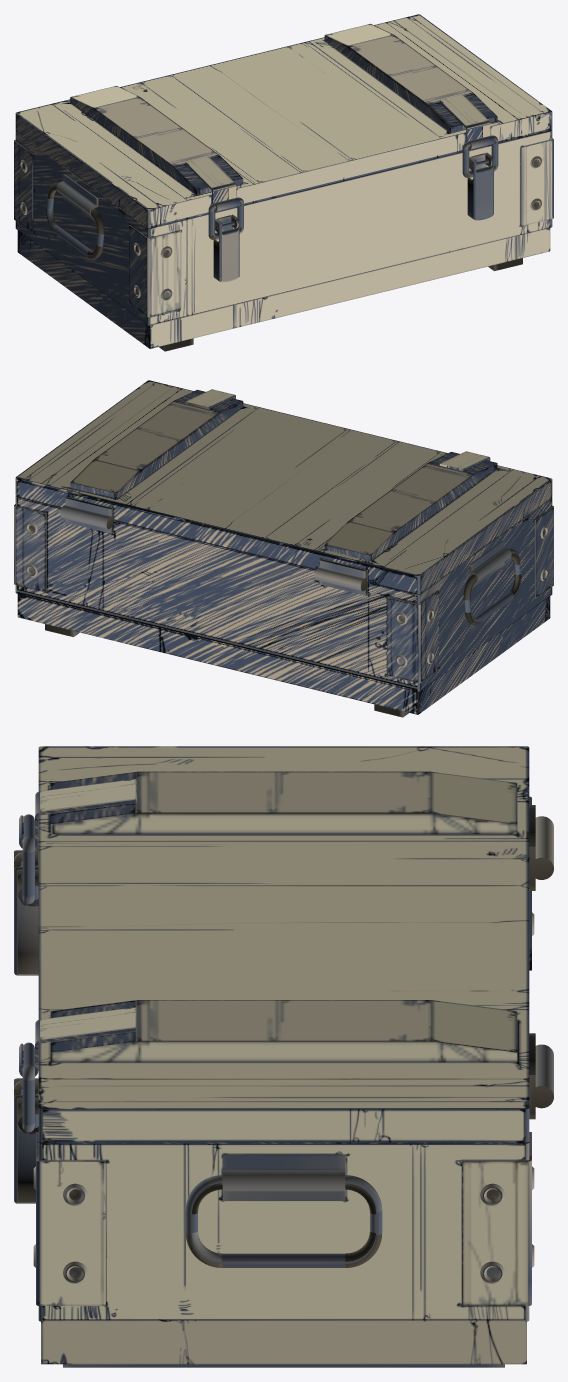
File: AmmoCase.obj
The picture shows the model from 3 angles, top to bottom: view 1: azimuth 30°, elevation 25°; view 2: azimuth 150°, elevation 25°; view 3: azimuth 270°, elevation 25°; orthographic projection. The views are drawn at different scales.
Visible parts, largest first — view 1: AmmoCase; view 2: AmmoCase; view 3: AmmoCase.
Boxes of the visible parts, x1,y1,x2,y2 form: AmmoCase: [14, 14, 553, 351]; AmmoCase: [14, 380, 553, 717]; AmmoCase: [14, 746, 553, 1367].
Bounding box in the file's own units: 34.55 × 12.78 × 20.59.
